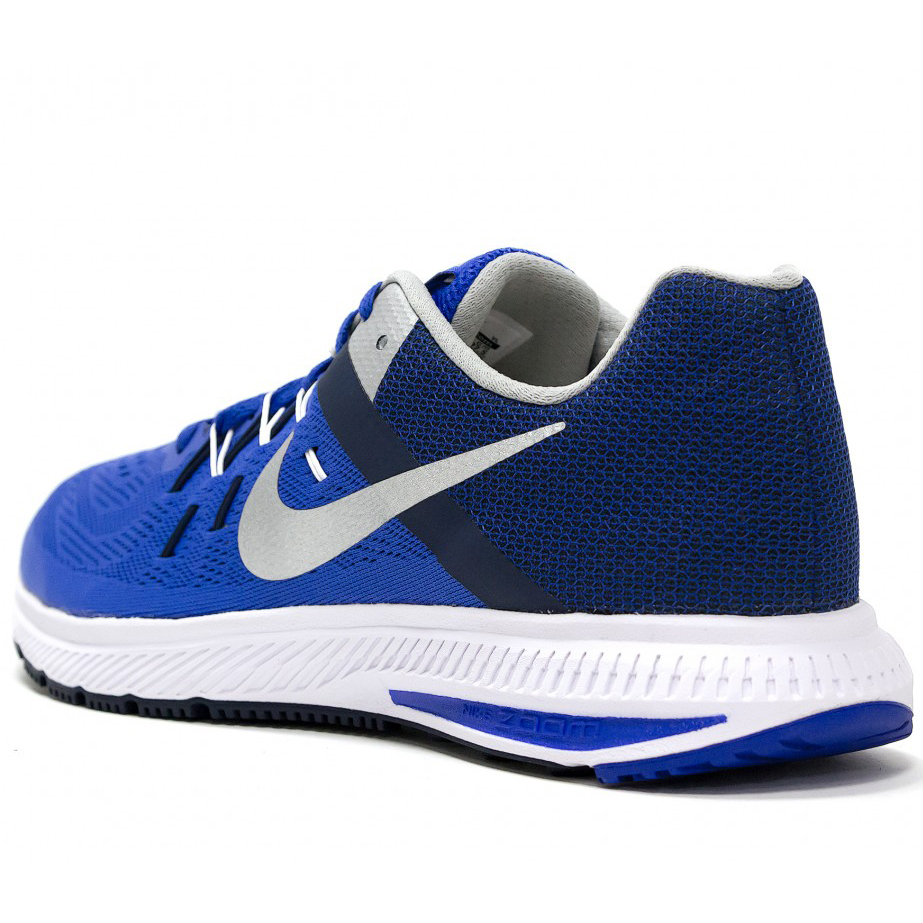Nike: (235, 416, 577, 584)
